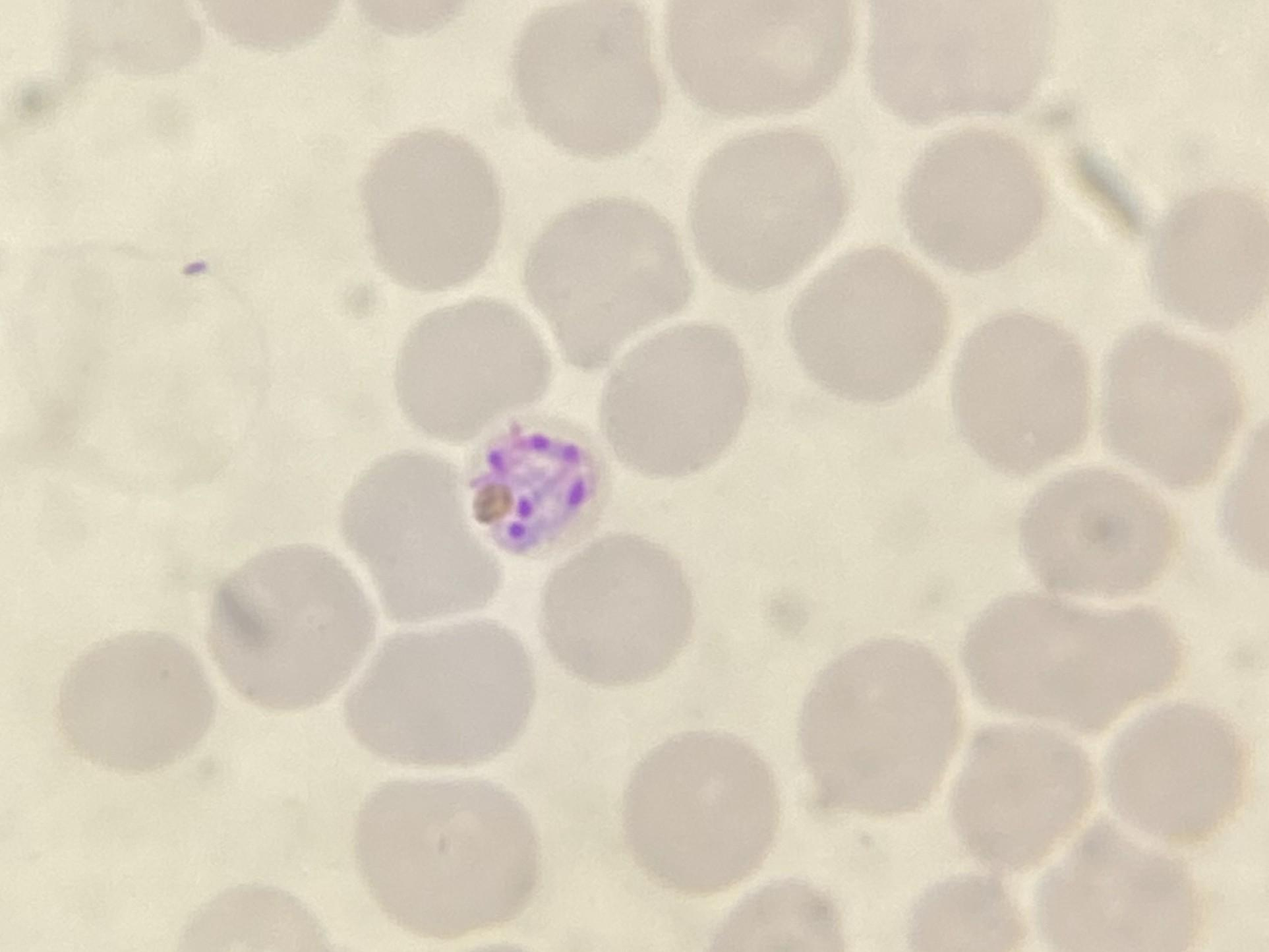Infected: (653, 392, 809, 542)
Uninfected: (81, 214, 300, 358), (738, 12, 922, 183), (765, 328, 935, 510), (305, 130, 474, 312), (578, 585, 751, 758), (736, 183, 924, 339), (488, 60, 657, 226), (420, 667, 579, 830), (894, 242, 1061, 393), (567, 267, 726, 425), (327, 548, 483, 708), (763, 653, 910, 821), (174, 69, 324, 233), (178, 471, 320, 642), (29, 456, 169, 629), (606, 792, 757, 952), (521, 473, 669, 635), (215, 825, 401, 952), (94, 337, 253, 485), (1053, 179, 1209, 320), (712, 513, 874, 647), (66, 0, 232, 126), (420, 838, 598, 952), (226, 680, 366, 822), (15, 104, 156, 242), (0, 625, 125, 762)
